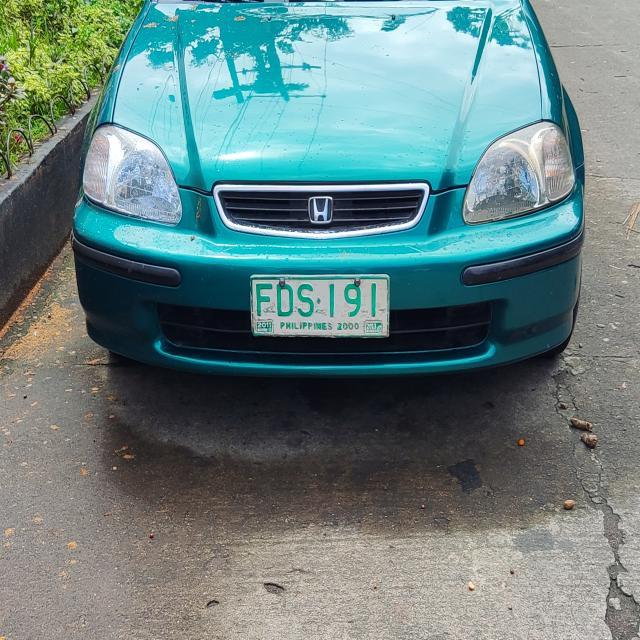LicensePlate: (241, 264, 398, 351)
